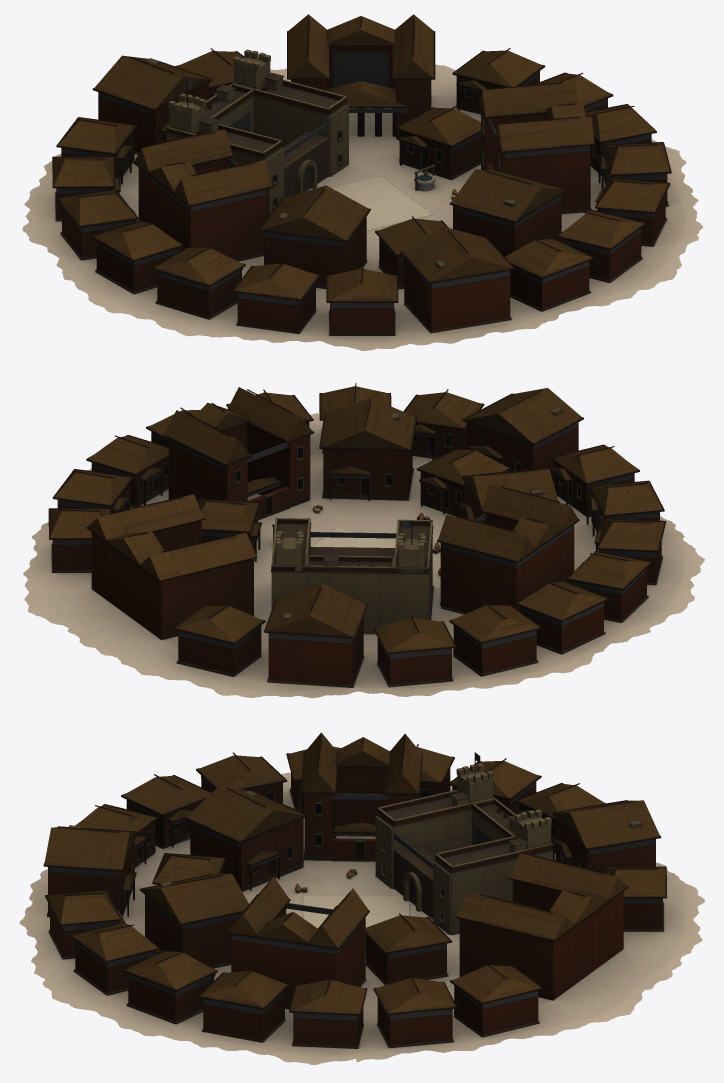
The model's file is gunpowder-town-big-a-westafrica.glb.
3 views of the same model, one above another, from view 1: azimuth 30°, elevation 25°; view 2: azimuth 150°, elevation 25°; view 3: azimuth 270°, elevation 25° (orthographic).
Parts seen in each view (by area): view 1: LOD0; view 2: LOD0; view 3: LOD0.
Part boxes in pixels (x1,y1,x2,y2): LOD0: (22, 14, 702, 350); LOD0: (23, 383, 704, 698); LOD0: (19, 732, 704, 1064).
Size of what is drawn, in the model's own units: 8.03 by 1.4 by 7.89.
Materials: 3 (3 with a texture image).
